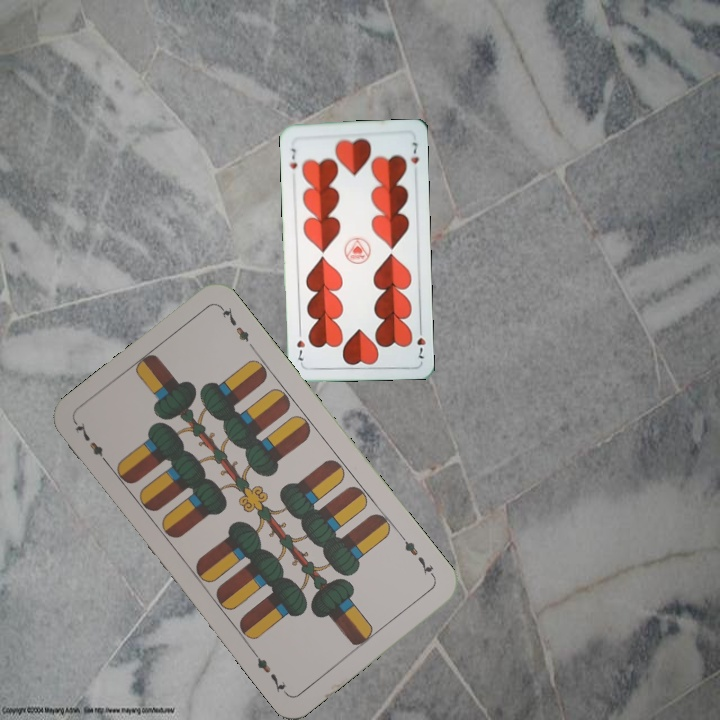E7: (396, 531, 438, 582), (71, 418, 113, 469)
H7: (413, 322, 428, 361), (286, 144, 300, 171)
